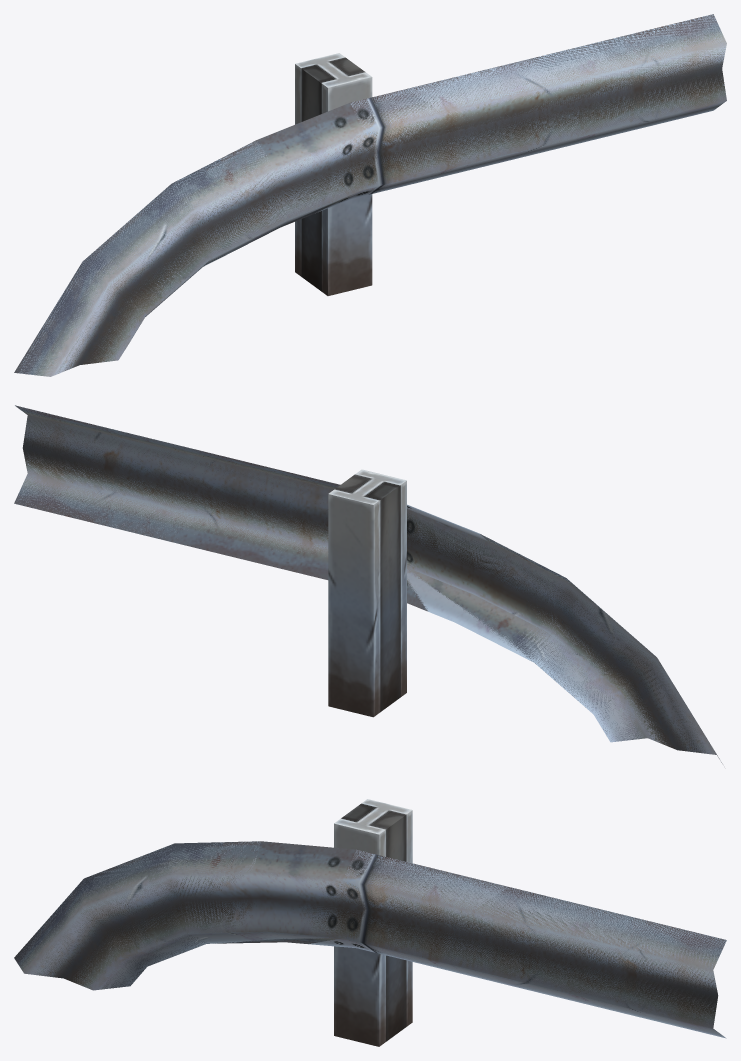
File: guardRail_End01_L.fbx
3 renders of one model, top to bottom at view 1: azimuth 30°, elevation 25°; view 2: azimuth 150°, elevation 25°; view 3: azimuth 330°, elevation 25°, orthographic.
Visible parts, largest first — view 1: guardRail_End01_L; view 2: guardRail_End01_L; view 3: guardRail_End01_L.
Boxes of the visible parts, left/top/right/bottom form: guardRail_End01_L: left=14, top=14, right=726, bottom=376; guardRail_End01_L: left=14, top=405, right=722, bottom=763; guardRail_End01_L: left=14, top=799, right=726, bottom=1046.
Size of the model in its own units: 289 by 82.17 by 33.12.
